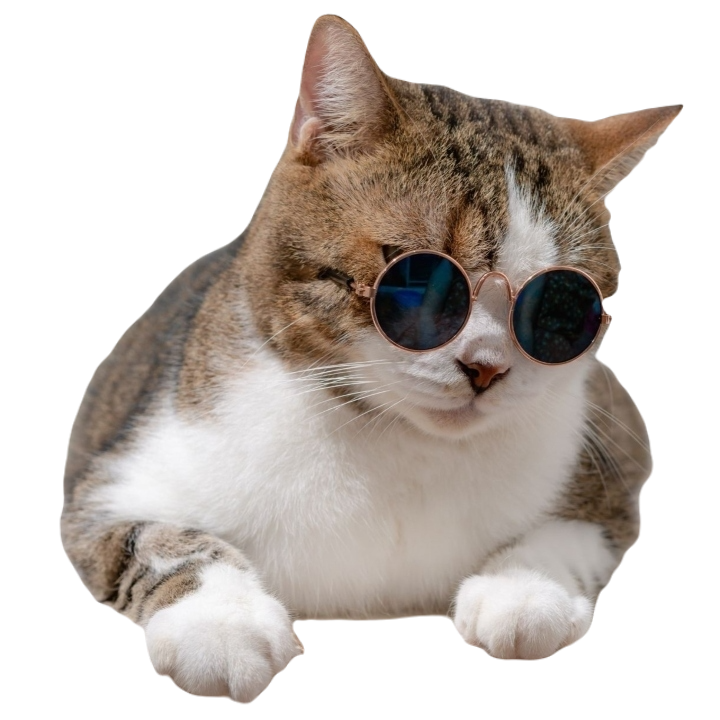Cat: (23, 7, 702, 695)
